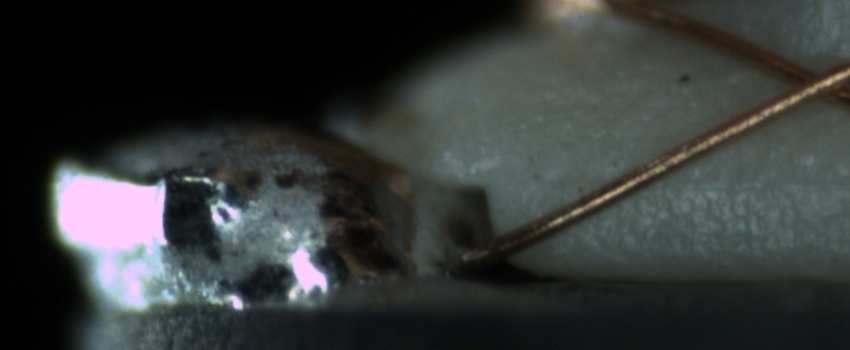CL: (761, 50, 849, 115)
DL: (669, 151, 849, 211)
